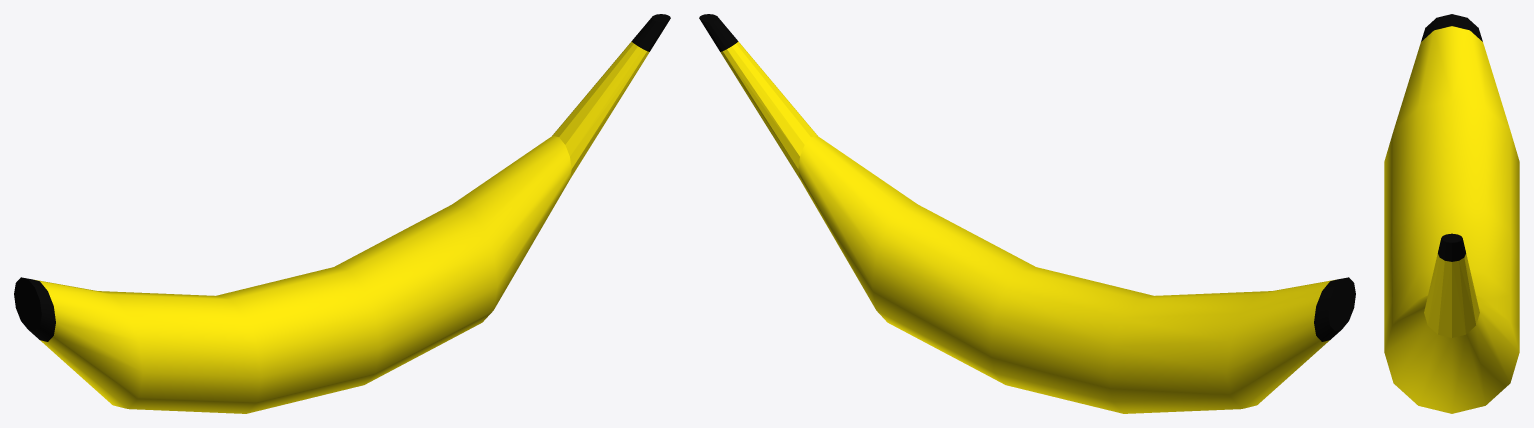
Rendered from banana.FBX.
The picture shows the model from 3 angles, left to right: view 1: azimuth 30°, elevation 25°; view 2: azimuth 150°, elevation 25°; view 3: azimuth 270°, elevation 25°; orthographic projection. The views are drawn at different scales.
Parts seen in each view (by area): view 1: Cylinder001; view 2: Cylinder001; view 3: Cylinder001.
Boxes of the visible parts, x1,y1,x2,y2 form: Cylinder001: (14,14,670,413); Cylinder001: (699,14,1355,413); Cylinder001: (1384,14,1519,413).
Size of the model in its own units: 130 by 21.36 by 55.44.
